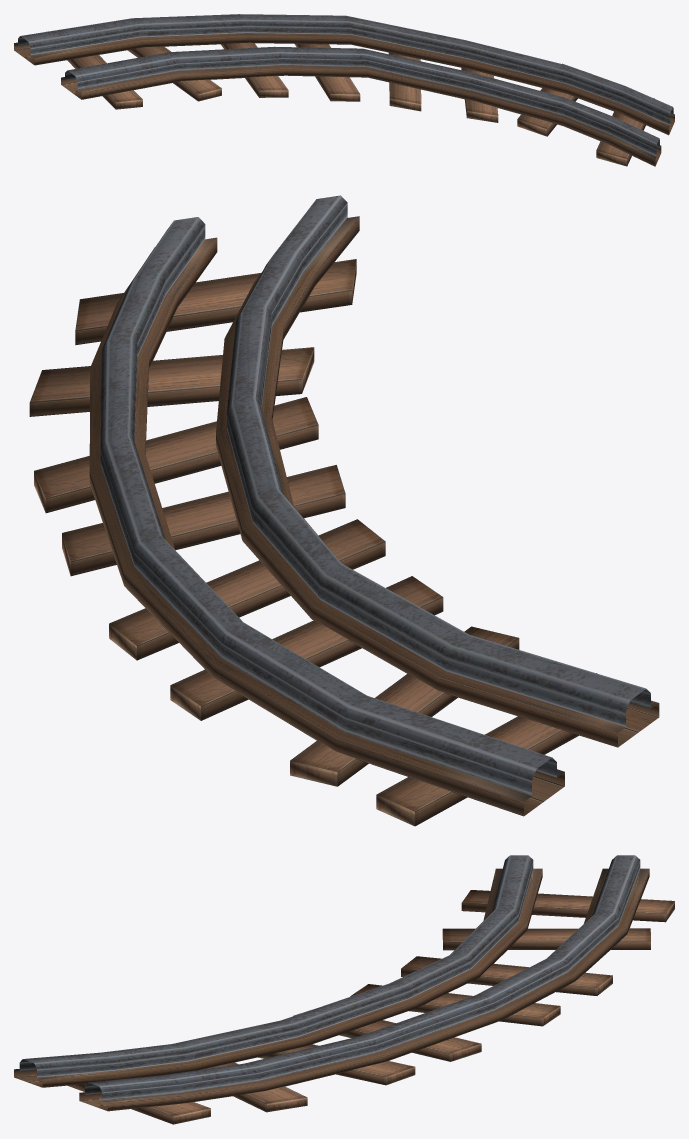
File: CurvedTrack.obj
3 views of the same model, one above another, from view 1: azimuth 30°, elevation 25°; view 2: azimuth 150°, elevation 25°; view 3: azimuth 270°, elevation 25° (orthographic). The views are drawn at different scales.
Parts seen in each view (by area): view 1: CurvedTrack_0; view 2: CurvedTrack_0; view 3: CurvedTrack_0.
Part boxes in pixels (left/top/right/bottom): CurvedTrack_0: left=14, top=14, right=674, bottom=166; CurvedTrack_0: left=29, top=195, right=659, bottom=826; CurvedTrack_0: left=14, top=855, right=674, bottom=1124.
Bounding box in the file's own units: 2.2 × 0.1434 × 2.57.
